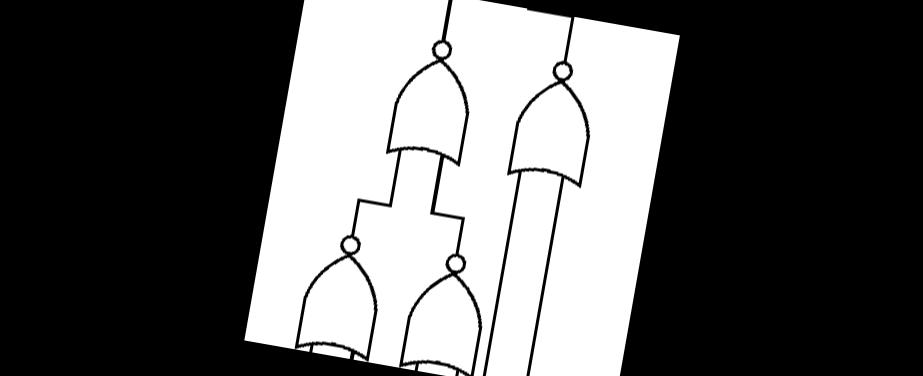nor: (380, 24, 488, 172), (500, 47, 607, 194), (289, 219, 394, 363), (394, 240, 499, 376)
